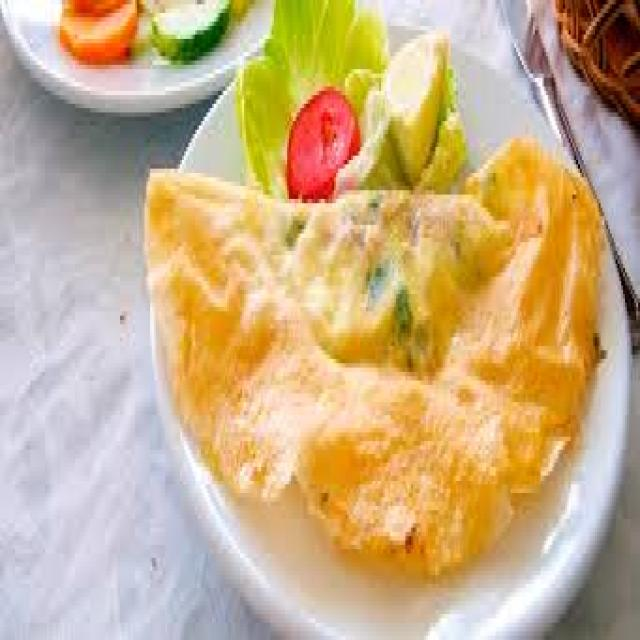brik: (150, 128, 601, 557)
